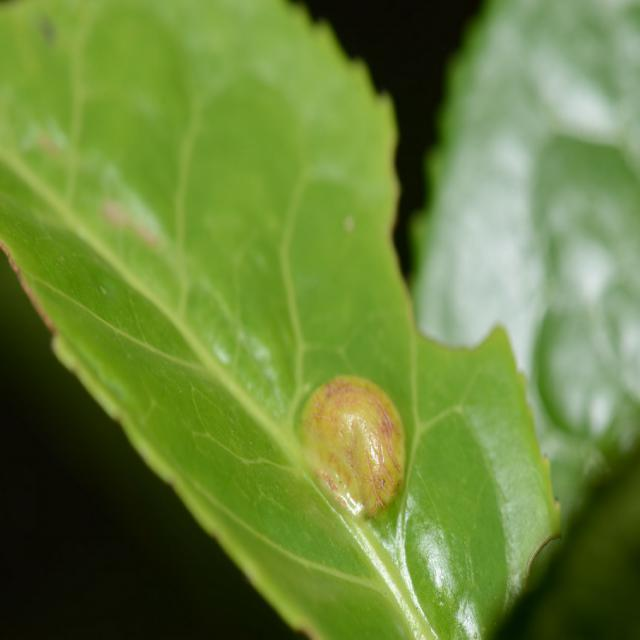Tea cake: (304, 363, 410, 518)
